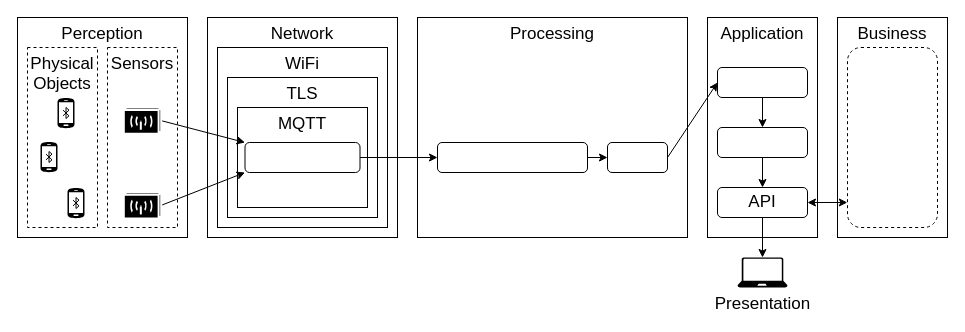
Some shapes in this 965 by 332 pixel diagram are drawn without their labels. The centre of each missing label's shape, as x and y in pixels:
"Cache" belongs at point 762,142.
"Data-Aggregation" belongs at point 512,157.
"DB" belongs at point 637,157.
"MQTT-Broker" belongs at point 302,157.
"Query" belongs at point 762,82.
"Setup Health OTA" belongs at point 892,137.
